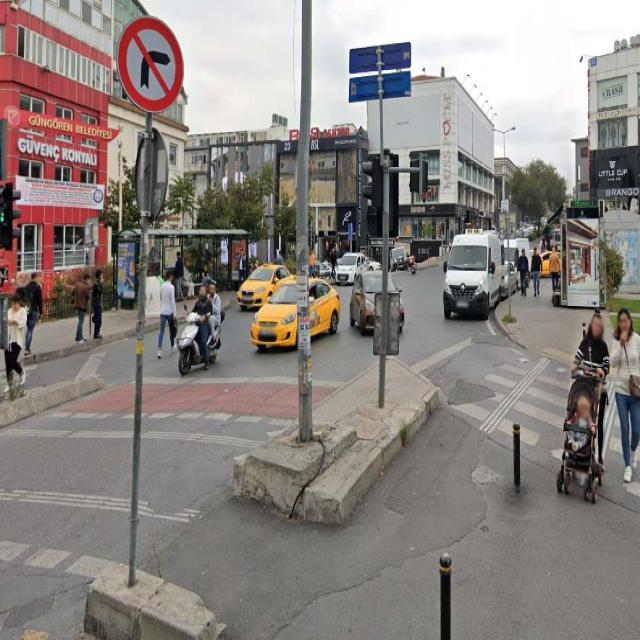sagadonulmez: (116, 16, 184, 112)
